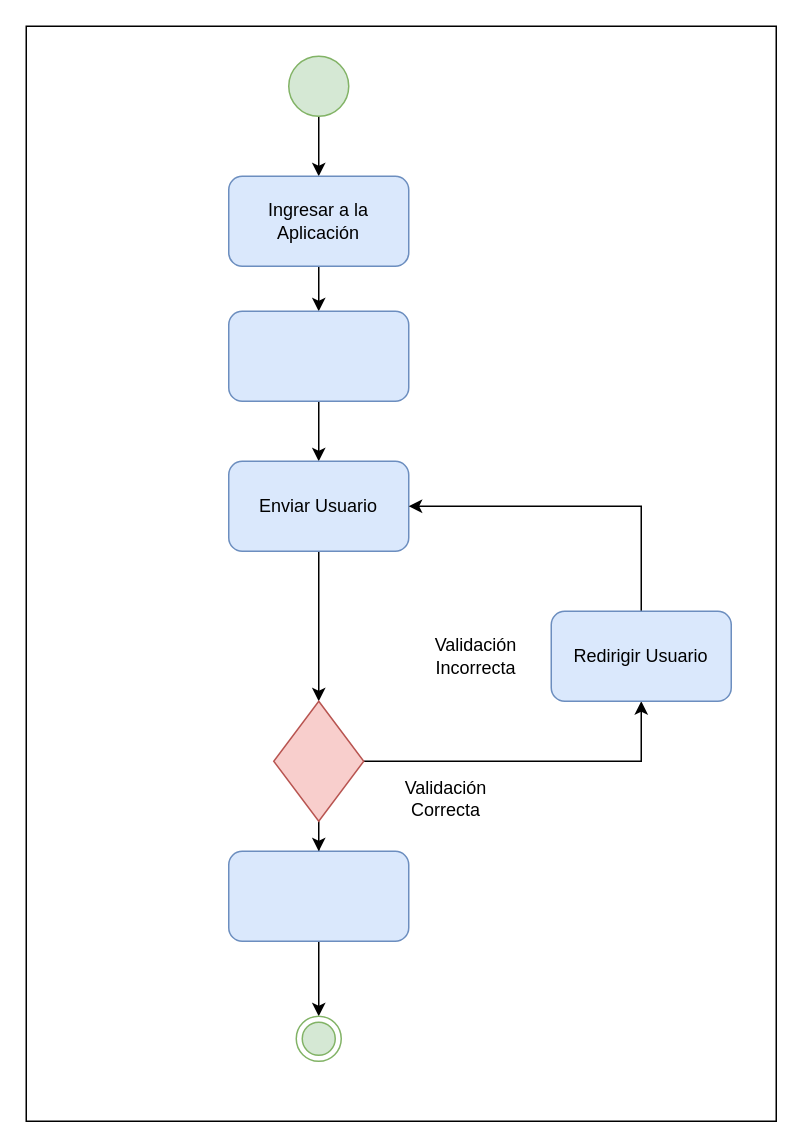
Image size: 803x1148. Some labels were removed from this diagram. Here are the shapes that lost their labels. From the top down, the centre of each, then its label:
At (x=318, y=355): "Registrar Usuario".
At (x=318, y=895): "Conceder Acceso".
